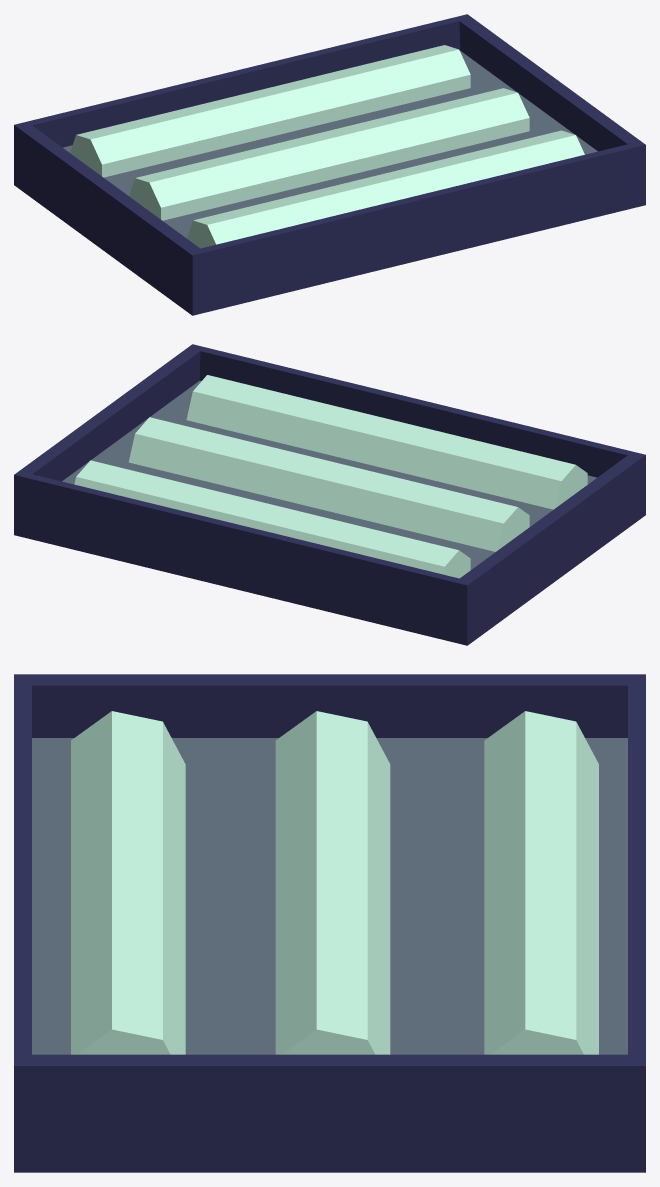
The model's file is lightbox.fbx.
3 views of the same model, one above another, from view 1: azimuth 30°, elevation 25°; view 2: azimuth 150°, elevation 25°; view 3: azimuth 270°, elevation 25° (orthographic). The views are drawn at different scales.
Visible parts, largest first — view 1: lightbox_cube, lightrod1, lightrod2, lightrod3, lightbox_plane; view 2: lightbox_cube, lightrod3, lightrod1, lightrod2, lightbox_plane; view 3: lightbox_cube, lightbox_plane, lightrod1, lightrod2, lightrod3.
Boxes of the visible parts, x1,y1,x2,y2 form: lightbox_cube: [14, 14, 645, 315]; lightrod1: [129, 88, 529, 220]; lightrod2: [70, 45, 470, 177]; lightrod3: [187, 130, 584, 248]; lightbox_plane: [63, 50, 597, 238]; lightbox_cube: [14, 344, 645, 645]; lightrod3: [186, 375, 587, 509]; lightrod1: [128, 417, 529, 551]; lightrod2: [74, 460, 470, 578]; lightbox_plane: [62, 380, 596, 569]; lightbox_cube: [14, 674, 645, 1172]; lightbox_plane: [32, 738, 627, 1054]; lightrod1: [275, 711, 390, 1054]; lightrod2: [484, 711, 598, 1054]; lightrod3: [71, 711, 185, 1054].
Size of the model in its own units: 123 by 15.64 by 83.87.
